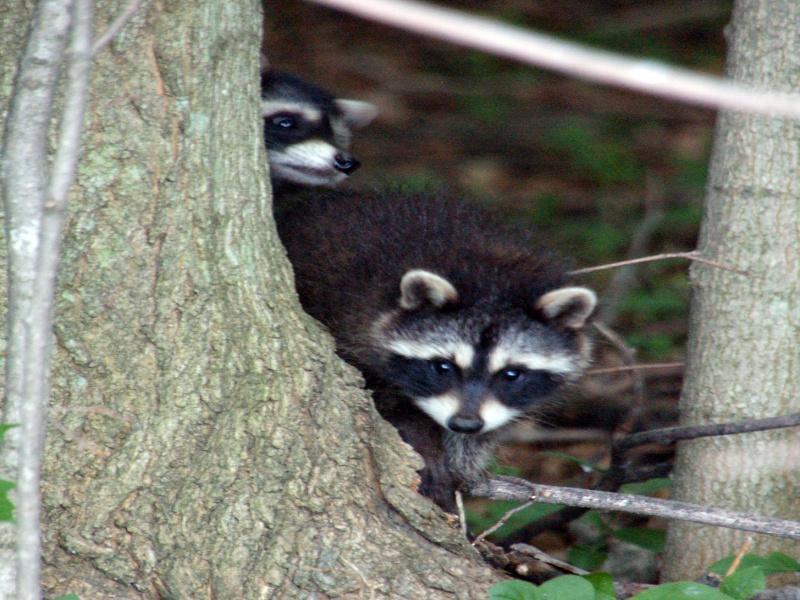raccoon: (265, 171, 604, 493), (245, 47, 383, 199)
